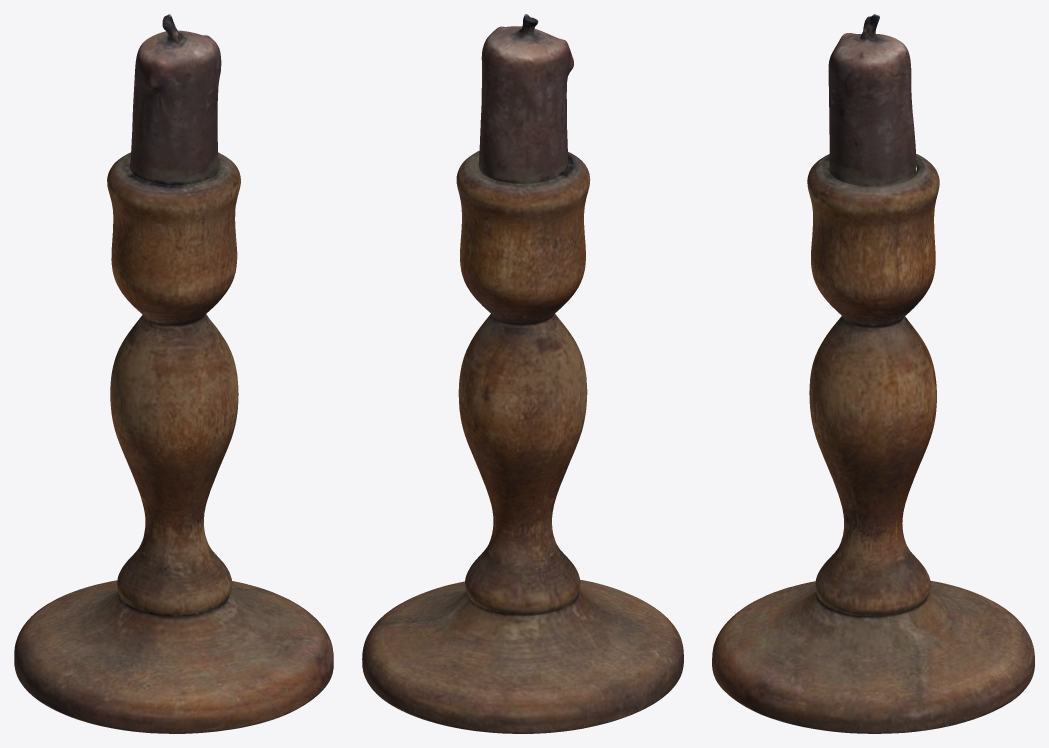
File: wooden_candlestick.glb
3 views of the same model, side by side, from view 1: azimuth 30°, elevation 25°; view 2: azimuth 150°, elevation 25°; view 3: azimuth 270°, elevation 25° (orthographic).
Visible parts, largest first — view 1: wooden_candlestick; view 2: wooden_candlestick; view 3: wooden_candlestick.
Part boxes in pixels (x1,y1,x2,y2): wooden_candlestick: (14,14,333,733); wooden_candlestick: (362,14,683,733); wooden_candlestick: (712,14,1034,733).
Bounding box in the file's own units: 0.0972 × 0.2197 × 0.0986.
Materials: 1 (1 with a texture image).
